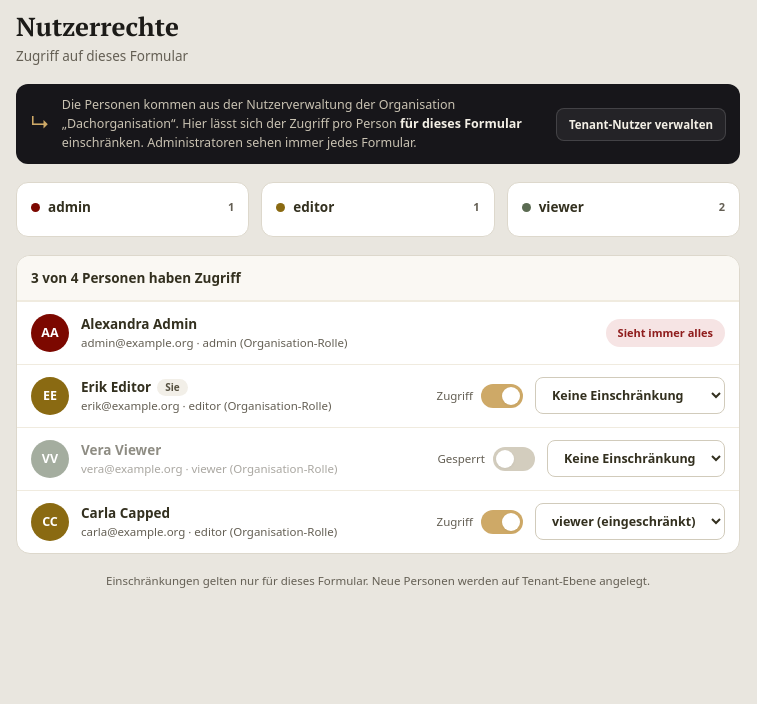
Test: Nutzerrechte je Formular › shows the server’s own refusal, e.g. the self-lockout guard
expect the text "Erik Editor" is shown: met, box [81,377,151,397]
Step 1. Click the switch labelled "Zugriff" in the row of "EE" → [480, 396], box [437,384,523,408]
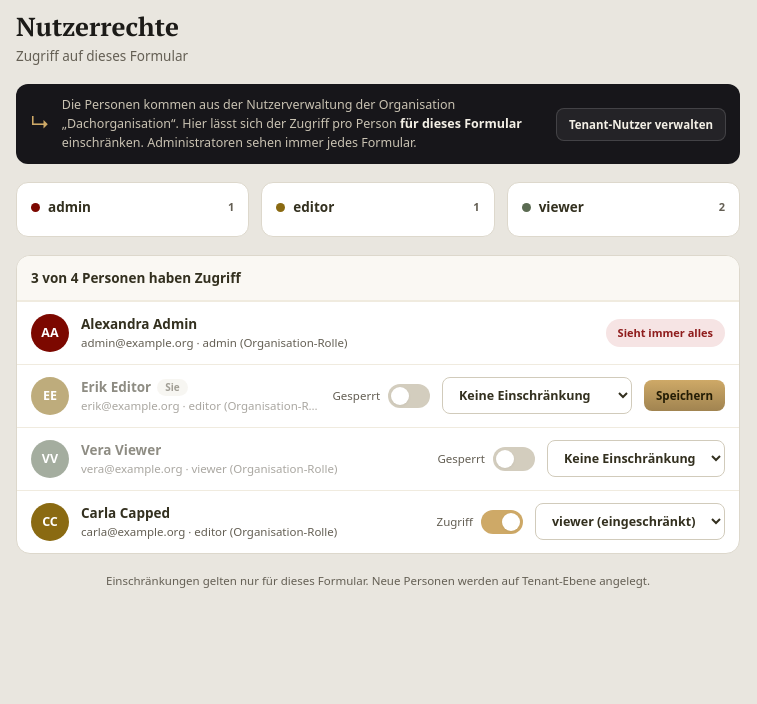
Step 2. Click the button "Speichern" → [684, 396], box [644,380,725,411]
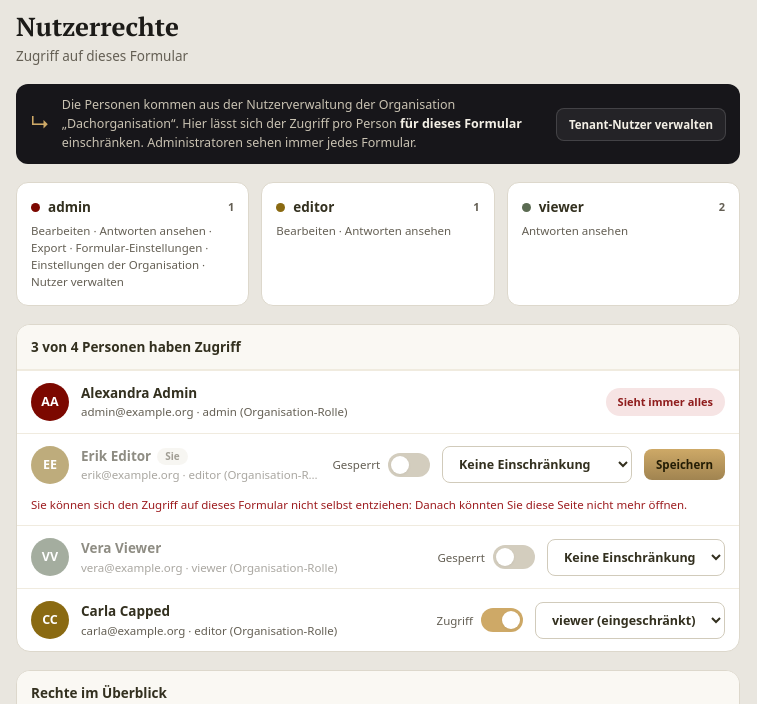
expect the message shows "nicht selbst entziehen": met, box [31,497,687,512]
